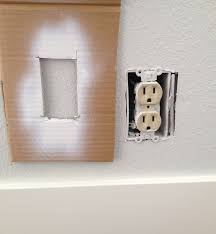outlet: (140, 113, 158, 131), (141, 85, 158, 104)
